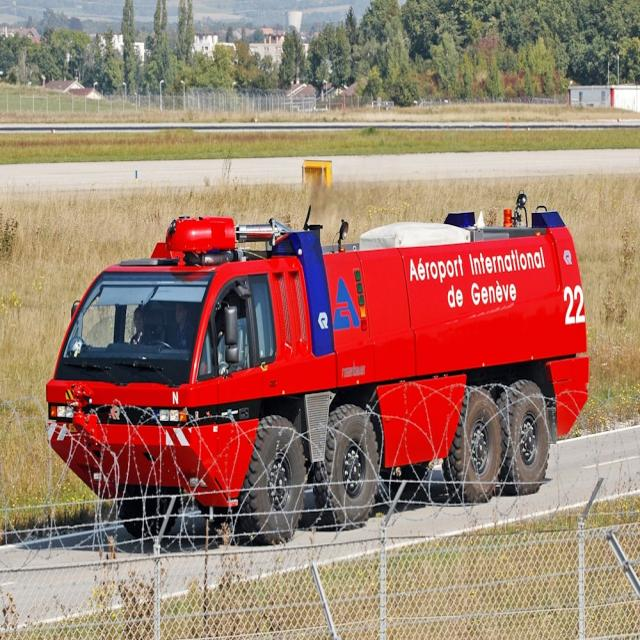emergency: (46, 208, 589, 542)
